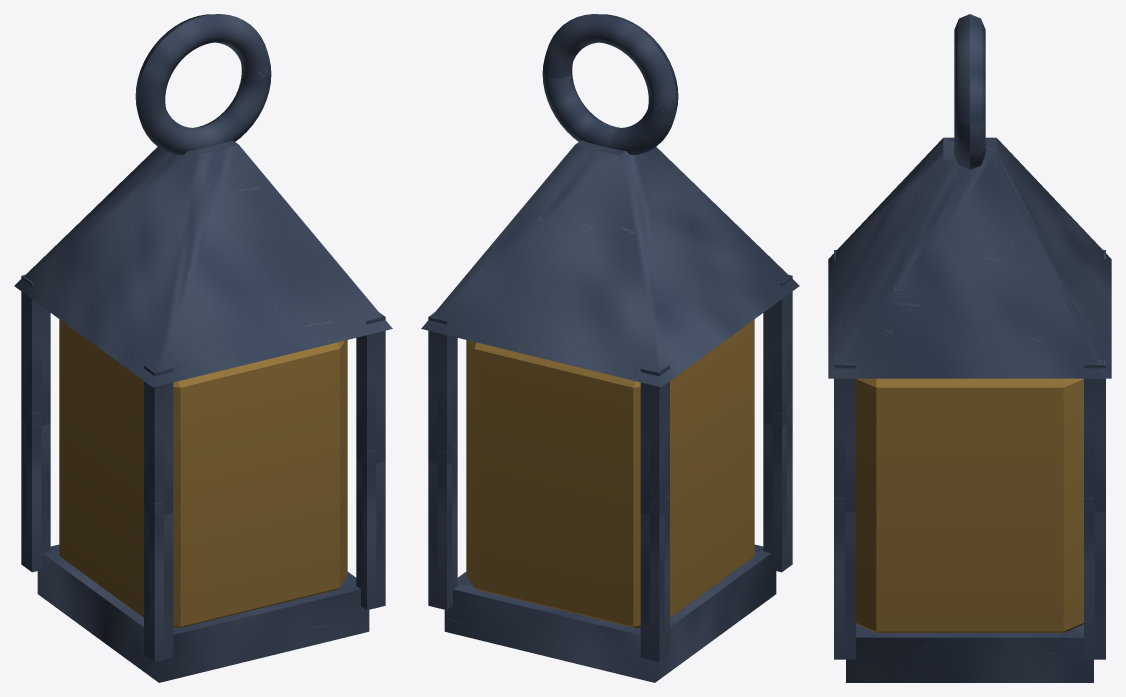
Rendered from Hanging_Lantern.fbx.
3 views of the same model, side by side, from view 1: azimuth 30°, elevation 25°; view 2: azimuth 150°, elevation 25°; view 3: azimuth 270°, elevation 25° (orthographic). The views are drawn at different scales.
Parts seen in each view (by area): view 1: Hanging_Lantern.001; view 2: Hanging_Lantern.001; view 3: Hanging_Lantern.001.
Part boxes in pixels (x1=…): Hanging_Lantern.001: x1=14, y1=14, x2=392, y2=682; Hanging_Lantern.001: x1=421, y1=14, x2=799, y2=682; Hanging_Lantern.001: x1=828, y1=14, x2=1111, y2=682.
Bounding box in the file's own units: 45.25 × 107 × 45.25.
Materials: 2 (2 with a texture image).
